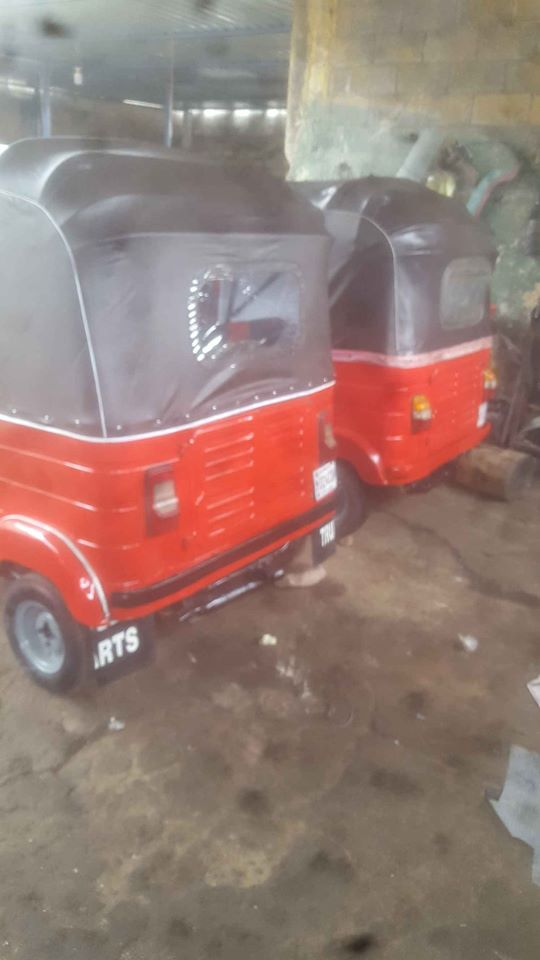mototaxi: (4, 142, 338, 688), (349, 166, 497, 520)
